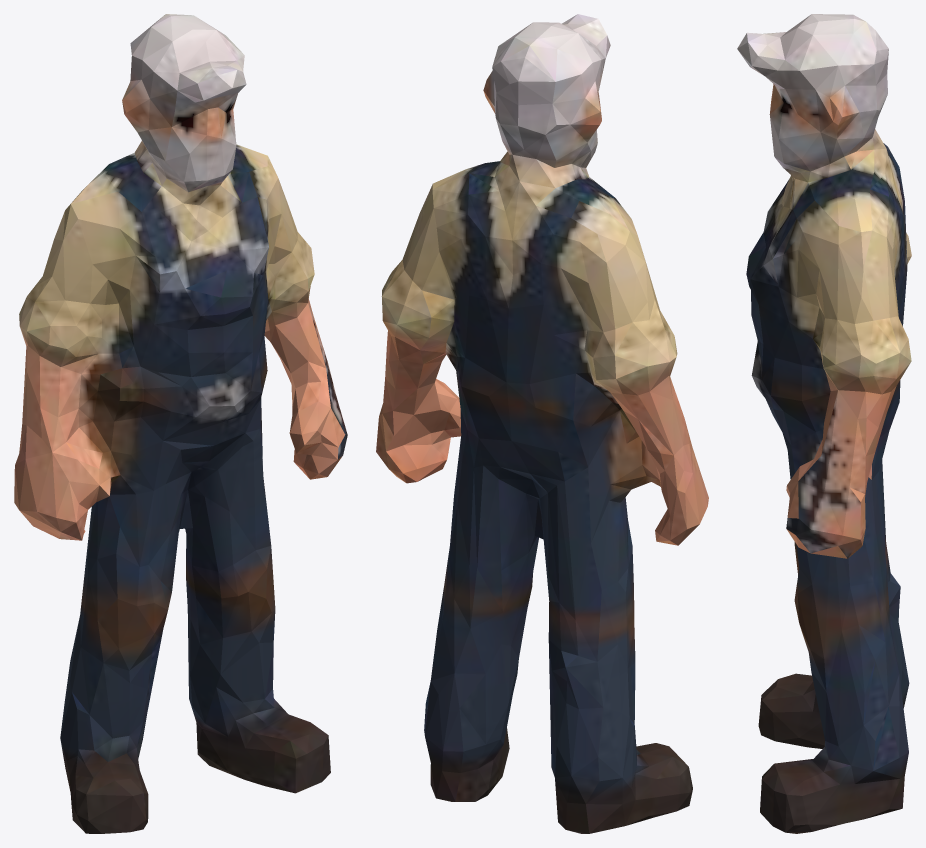
The model's file is habitant-loin.glb.
3 renders of one model, left to right at view 1: azimuth 30°, elevation 25°; view 2: azimuth 150°, elevation 25°; view 3: azimuth 270°, elevation 25°, orthographic.
Parts seen in each view (by area): view 1: habitant; view 2: habitant; view 3: habitant.
Boxes of the visible parts, bbox=[...] form: habitant: bbox=[14, 14, 347, 833]; habitant: bbox=[376, 14, 708, 833]; habitant: bbox=[737, 14, 911, 833].
Size of the model in its own units: 0.4391 by 1.01 by 0.2112.
Materials: 1 (1 with a texture image).
